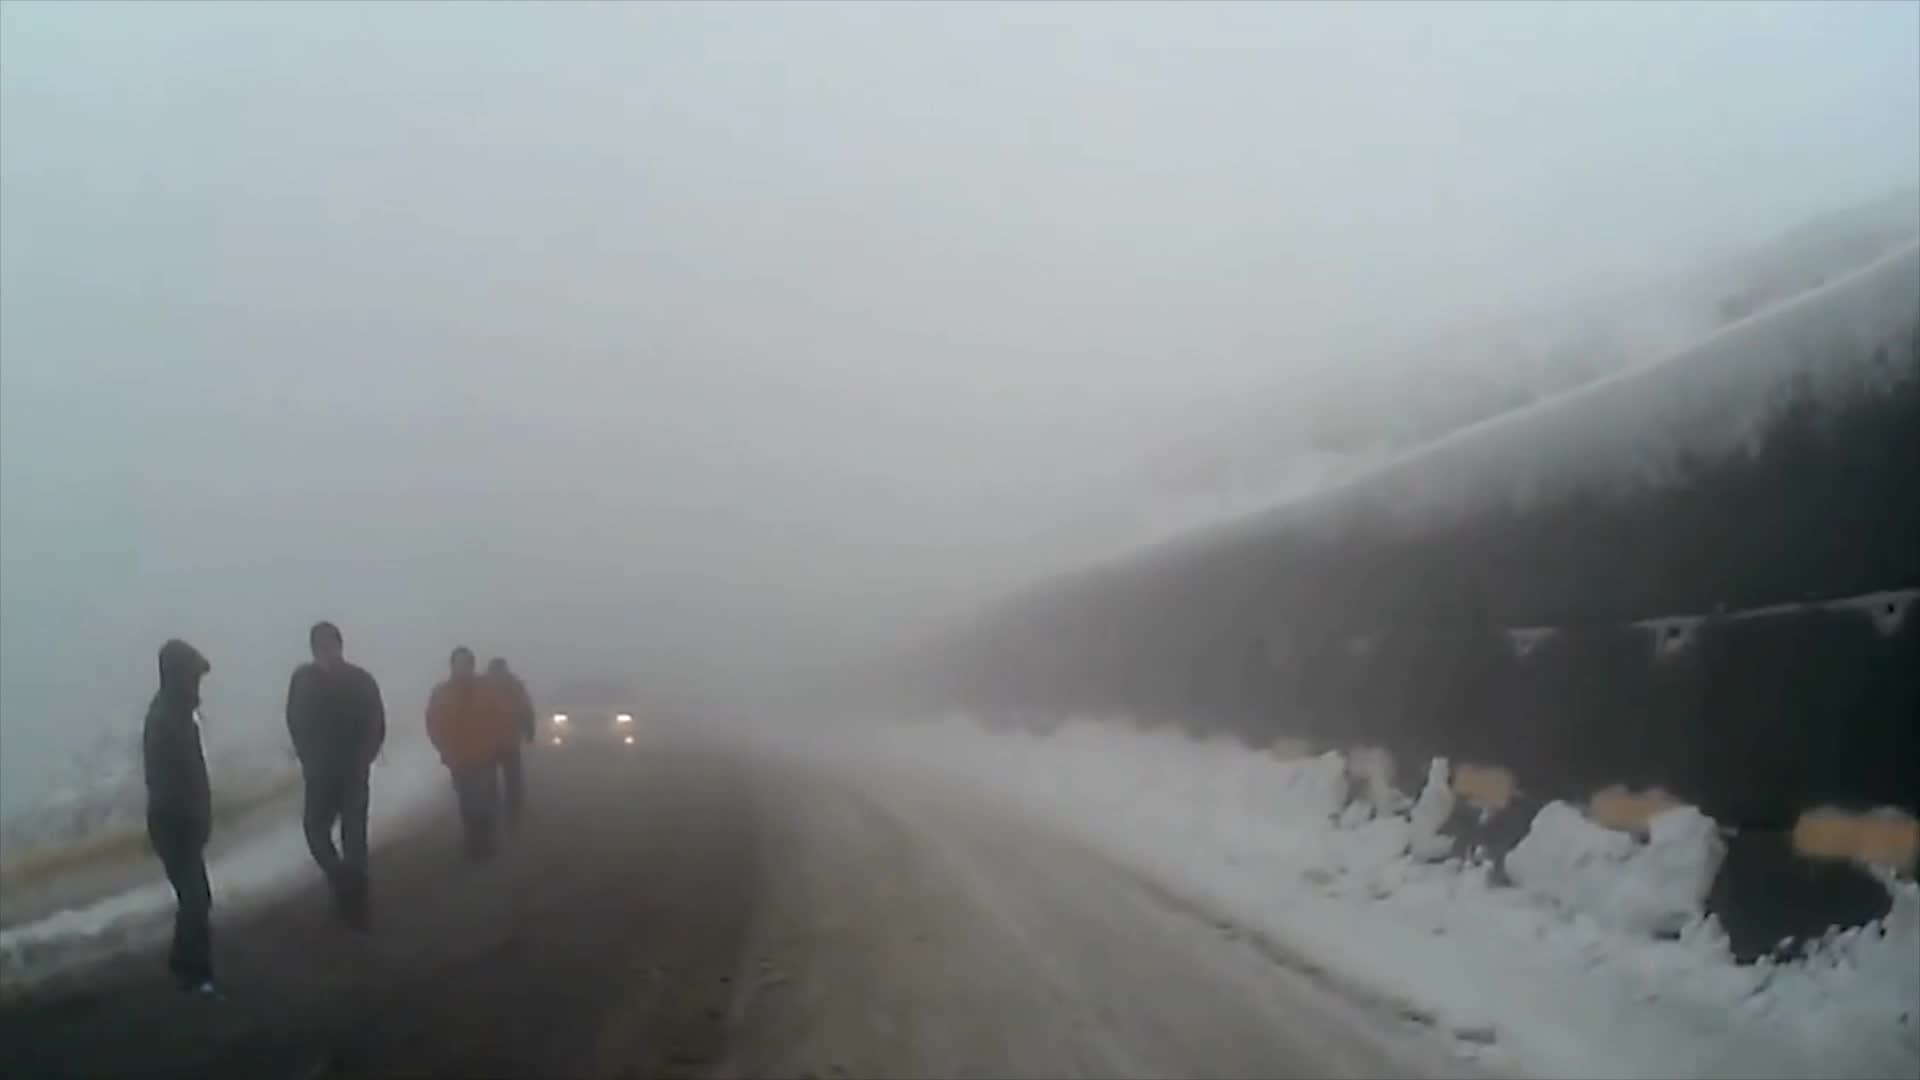pedestrian: (283, 624, 391, 937), (140, 639, 223, 998), (423, 647, 519, 866)
vehicle: (545, 679, 641, 765)
